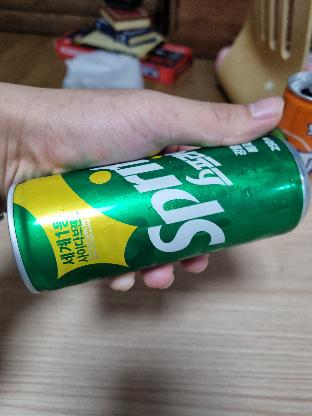Can: (24, 120, 290, 288)
